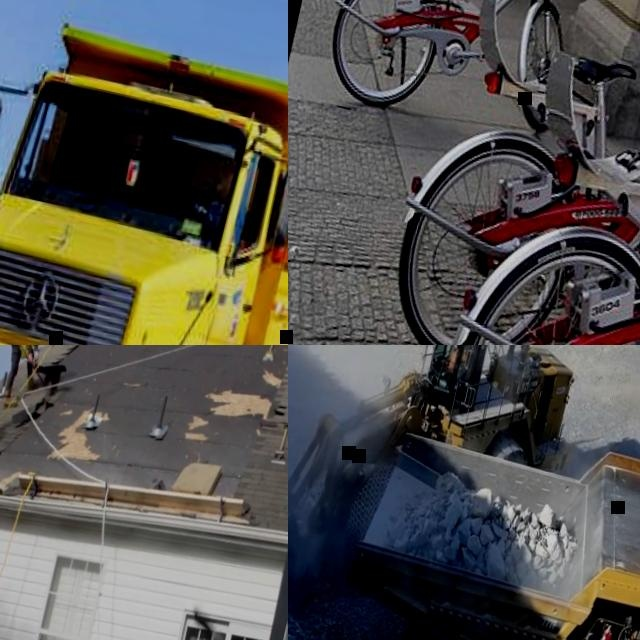NO-Hardhat: (91, 134, 115, 161)
NO-Safety Vest: (79, 168, 121, 197)
Person: (73, 133, 134, 197), (0, 345, 57, 413), (443, 345, 469, 374)
Safety Vest: (446, 345, 469, 373), (6, 345, 45, 356)
machinery: (0, 0, 288, 345), (288, 345, 589, 640), (307, 391, 640, 640)
